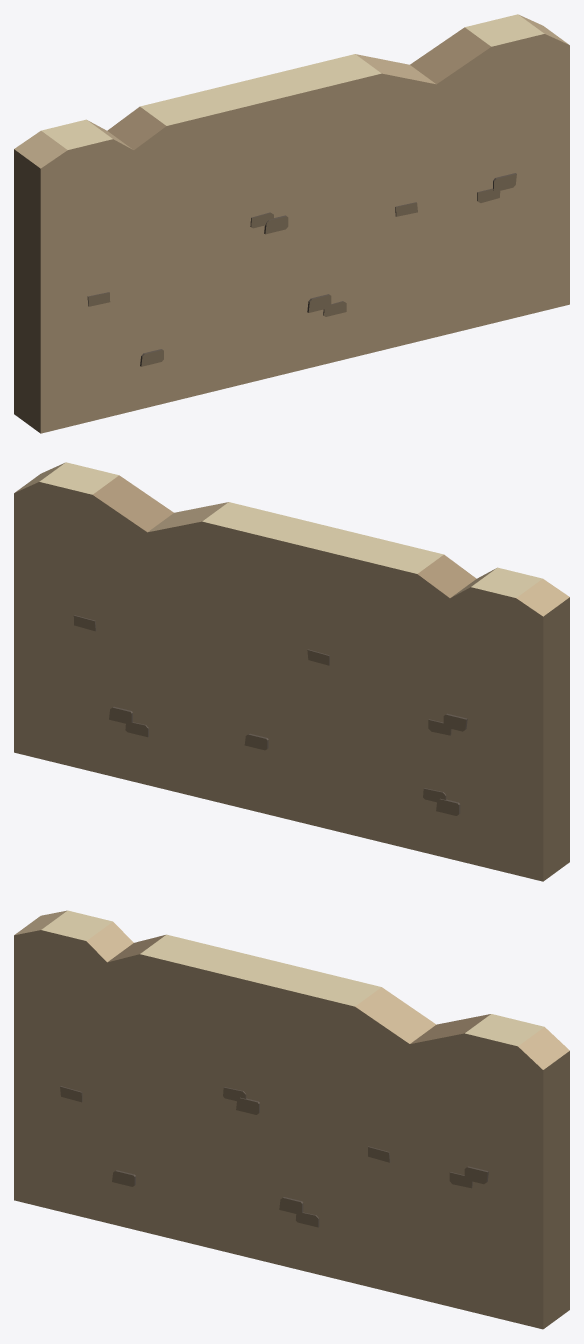
The model's file is TB_D_Bd_Wall_Plain_A.FBX.
3 renders of one model, top to bottom at view 1: azimuth 30°, elevation 25°; view 2: azimuth 150°, elevation 25°; view 3: azimuth 330°, elevation 25°, orthographic.
Parts seen in each view (by area): view 1: TB_D_Bd_Wall_Plain_A; view 2: TB_D_Bd_Wall_Plain_A; view 3: TB_D_Bd_Wall_Plain_A.
Boxes of the visible parts, x1=… form: TB_D_Bd_Wall_Plain_A: x1=14, y1=14, x2=569, y2=433; TB_D_Bd_Wall_Plain_A: x1=14, y1=462, x2=569, y2=881; TB_D_Bd_Wall_Plain_A: x1=14, y1=910, x2=569, y2=1329.
Bounding box in the file's own units: 8 × 4 × 0.7691.
